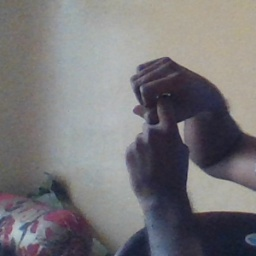Q: (116, 56, 216, 184)
